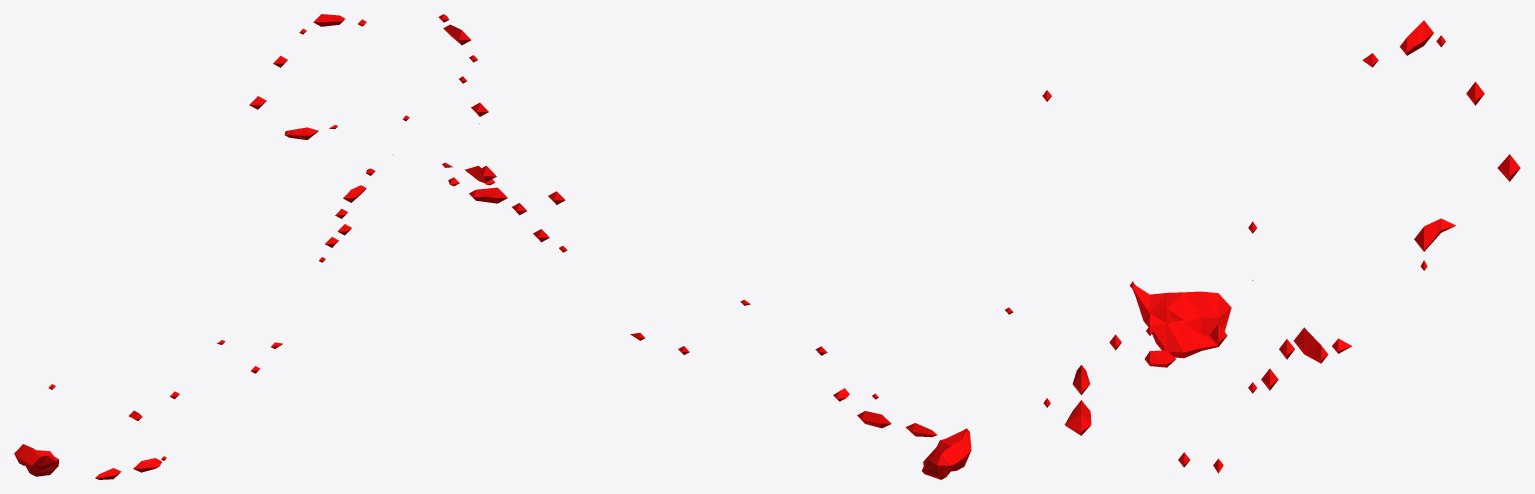
File: ftsK_coarse.dae
The picture shows the model from 3 angles, left to right: view 1: azimuth 30°, elevation 25°; view 2: azimuth 150°, elevation 25°; view 3: azimuth 270°, elevation 25°; orthographic projection. The views are drawn at different scales.
Visible parts, largest first — view 1: ftsK; view 2: ftsK; view 3: ftsK.
Boxes of the visible parts, <box> form: ftsK: <box>14,14,409,479</box>; ftsK: <box>438,14,1013,479</box>; ftsK: <box>1042,20,1520,473</box>.
Size of the model in its own units: 766 by 590 by 384.
